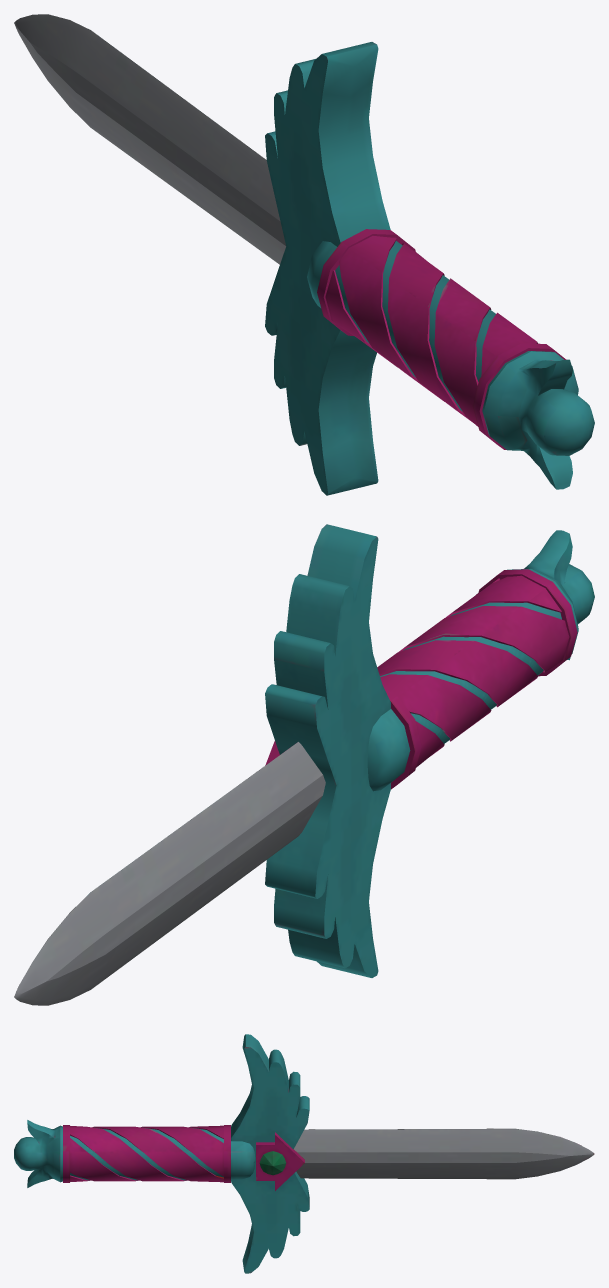
The model's file is Knife.obj.
3 views of the same model, one above another, from view 1: azimuth 30°, elevation 25°; view 2: azimuth 150°, elevation 25°; view 3: azimuth 270°, elevation 25° (orthographic). The views are drawn at different scales.
Visible parts, largest first — view 1: Knife1; view 2: Knife1; view 3: Knife1.
Part boxes in pixels (x1=…): Knife1: x1=14, y1=14, x2=594, y2=495; Knife1: x1=14, y1=524, x2=594, y2=1005; Knife1: x1=14, y1=1034, x2=594, y2=1273.
Size of the model in its own units: 0.2785 by 1.18 by 2.73.
1 material, 1 textured.
